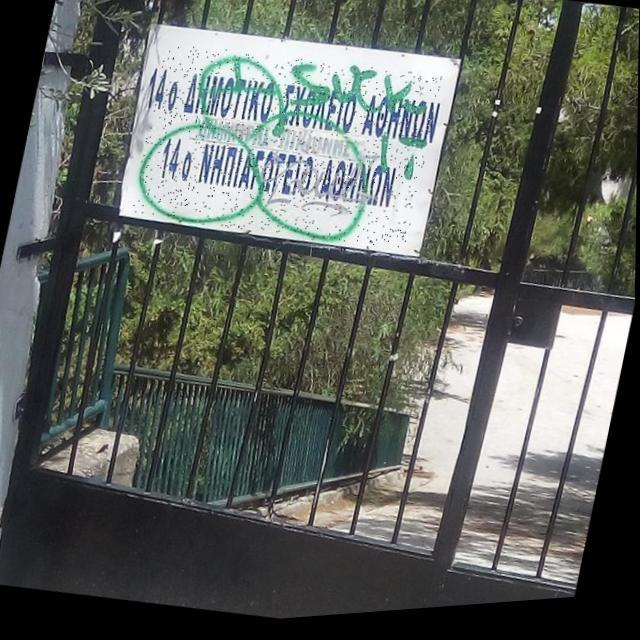-: (130, 28, 443, 272)
